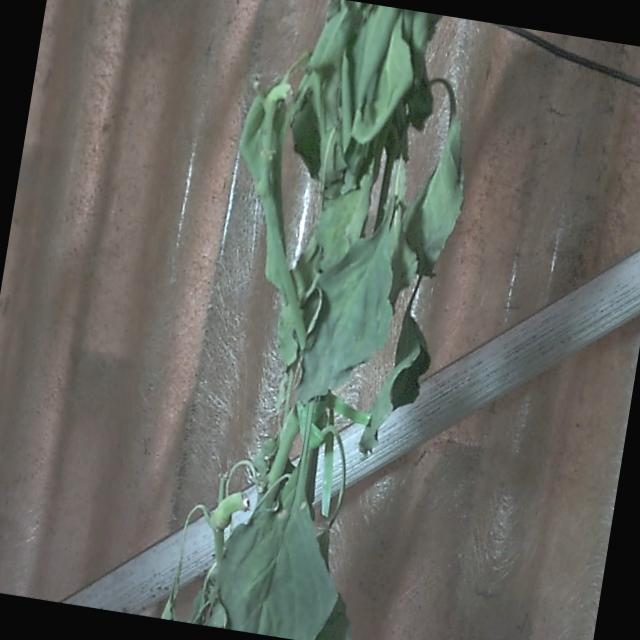Leaf: (292, 208, 402, 412), (211, 487, 350, 640), (341, 15, 416, 144)
